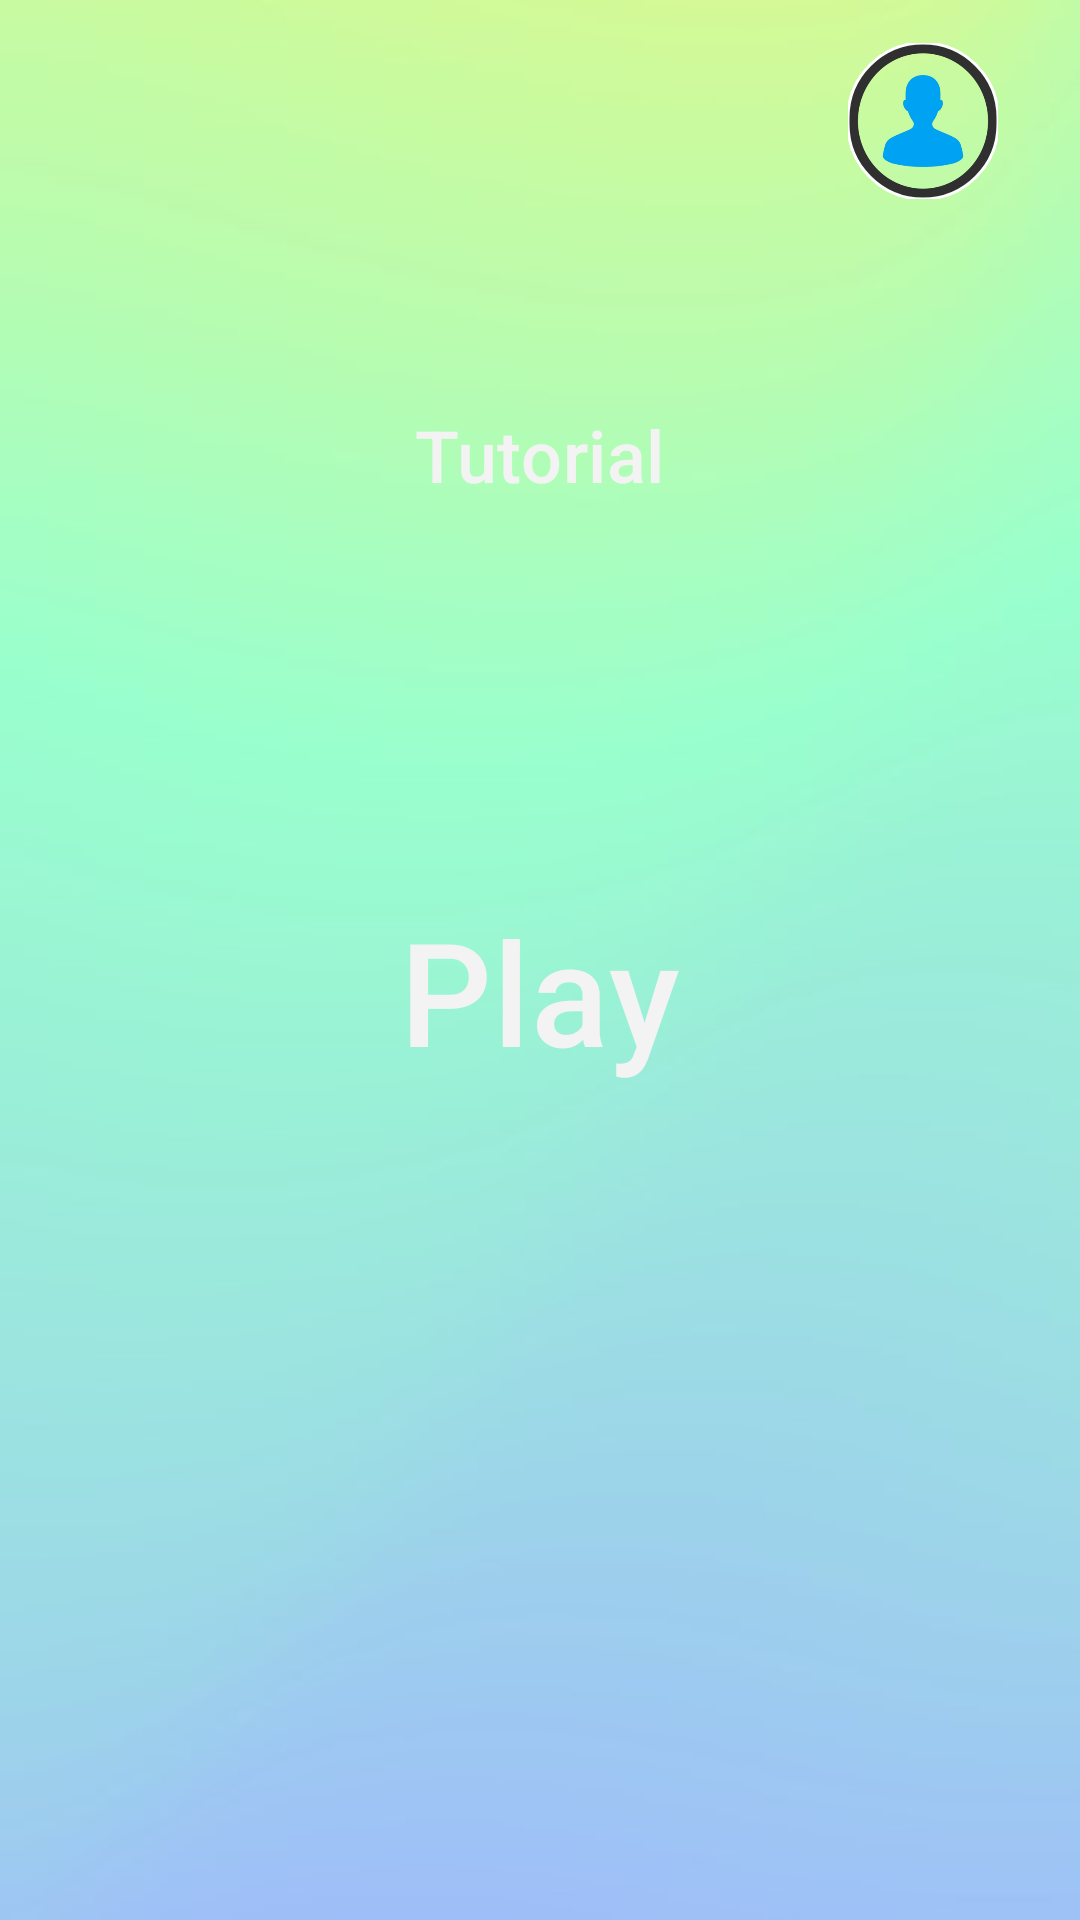

Where to tap for icons on this 1080 × 1920 app screen, as point (x, y):
profile: point (923, 121)
